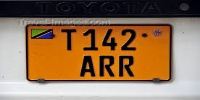T: (60, 28, 78, 52)
